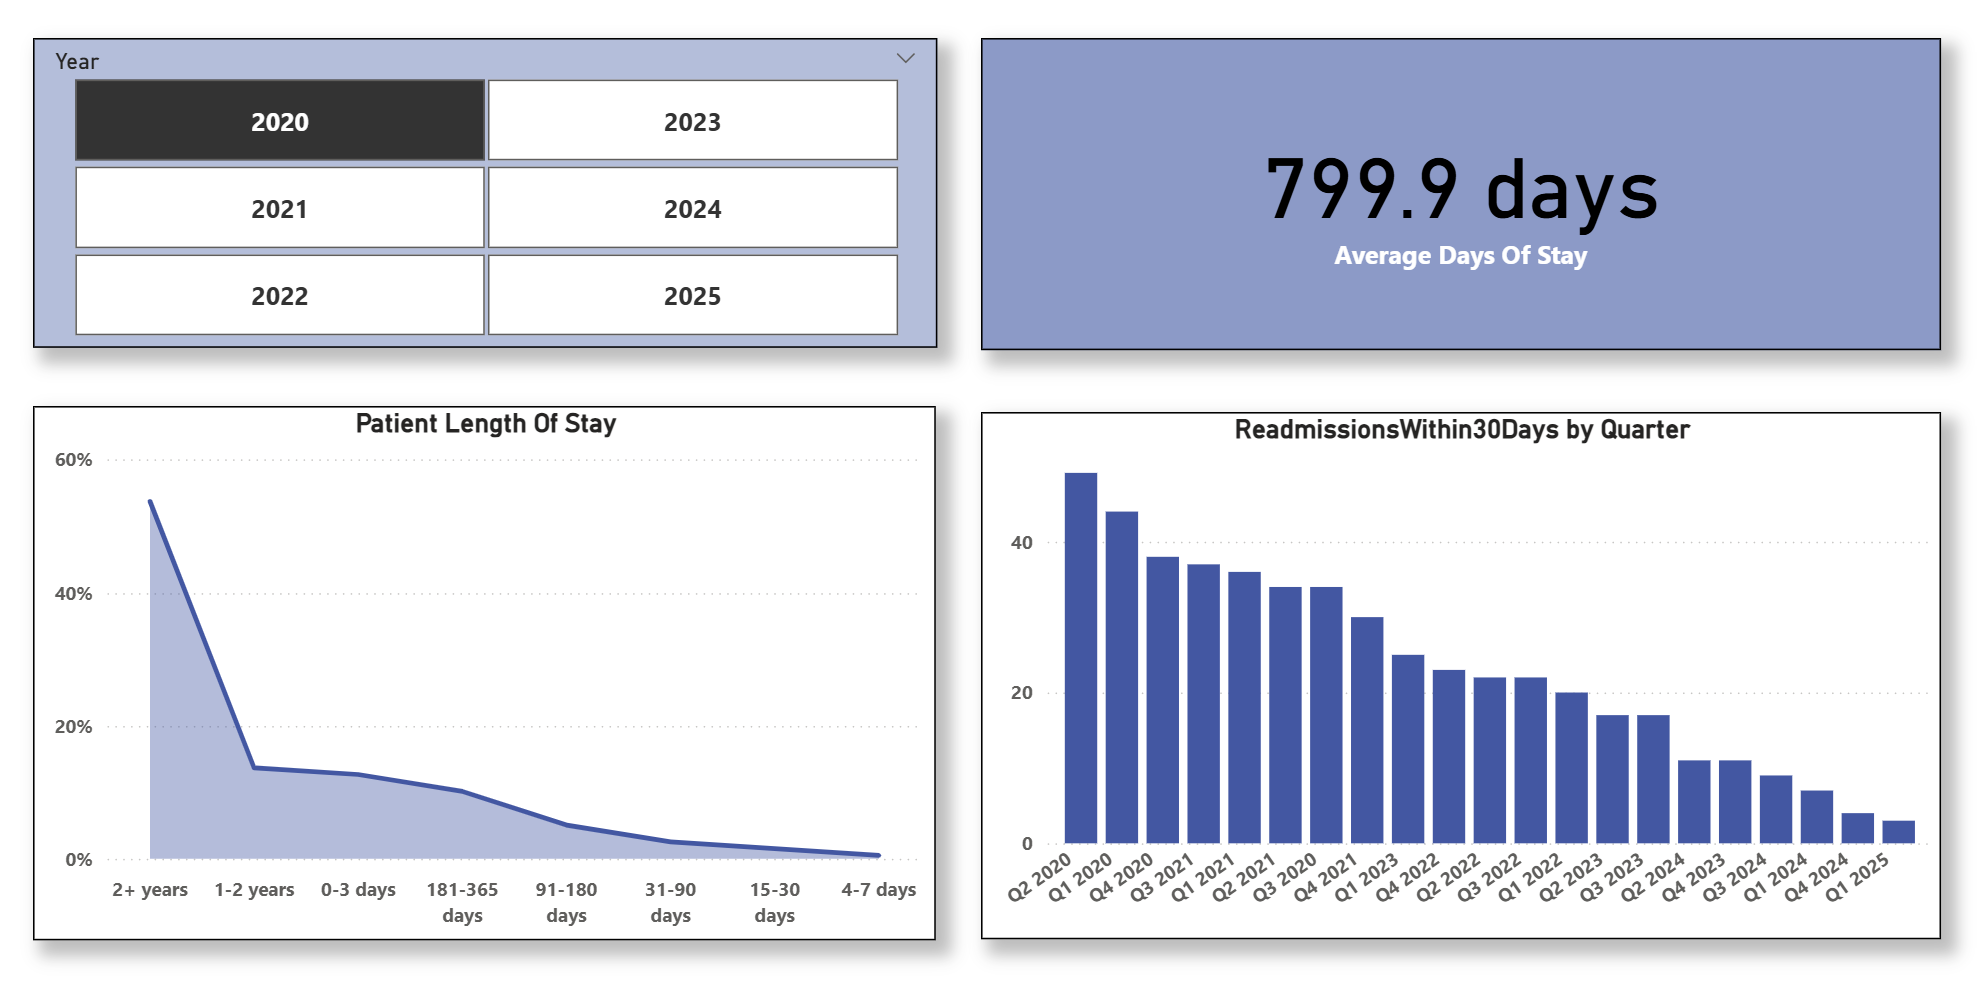

Layout of this report page (visuals, bound fields, positions):
{"tool":"powerbi","page":{"name":"Page 2","canvas":[1280,720],"ordinal":1},"visuals":[{"type":"areaChart","title":"Patient Length Of Stay ","fields":{"Category":["Admissions.AprxDaysStayed"],"Y":["Admissions.% Patients By Stay Days"]},"box":[24.3,284.3,575.7,340],"z":0},{"type":"slicer","fields":{"Values":["Admissions.Year"]},"box":[24.2,49.7,576.3,197.6],"z":1000},{"type":"card","fields":{"Values":["Admissions.AvgStayPerYear"]},"box":[628.5,49.7,612,198.9],"z":2000},{"type":"columnChart","fields":{"Y":["Admissions.ReadmissionsWithin30Days"],"Category":["Readmissions.Quarter"]},"box":[628.5,288.1,612,335.3],"z":3000}]}

Visuals, with their boxes on the page's 1280x720 design canvas (x1, y1, x2, y2). These are canvas units, not pixel positions in the 1980x986 screenshot, which may show the page scaled, cropped or inside an application window:
"Patient Length Of Stay " areaChart: [24,284,600,624]
slicer - Admissions.Year: [24,50,600,247]
card - Admissions.AvgStayPerYear: [628,50,1240,249]
columnChart - Admissions.ReadmissionsWithin30Days x Readmissions.Quarter: [628,288,1240,623]
